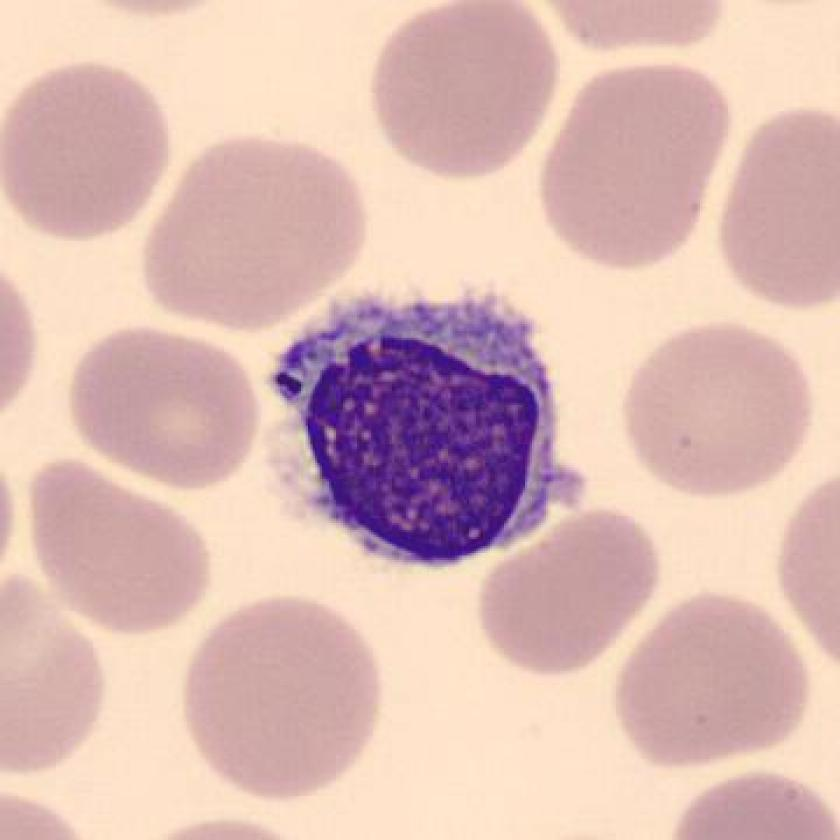lymphocyte: (255, 276, 594, 575)
